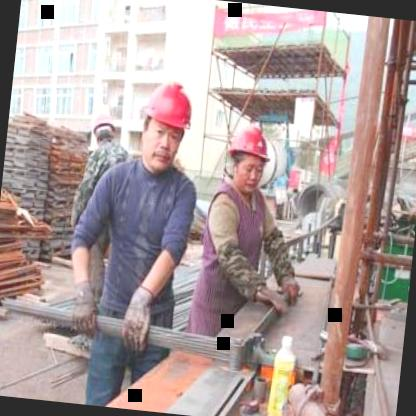helmet: (134, 74, 202, 174), (218, 116, 275, 198), (89, 110, 116, 148)
